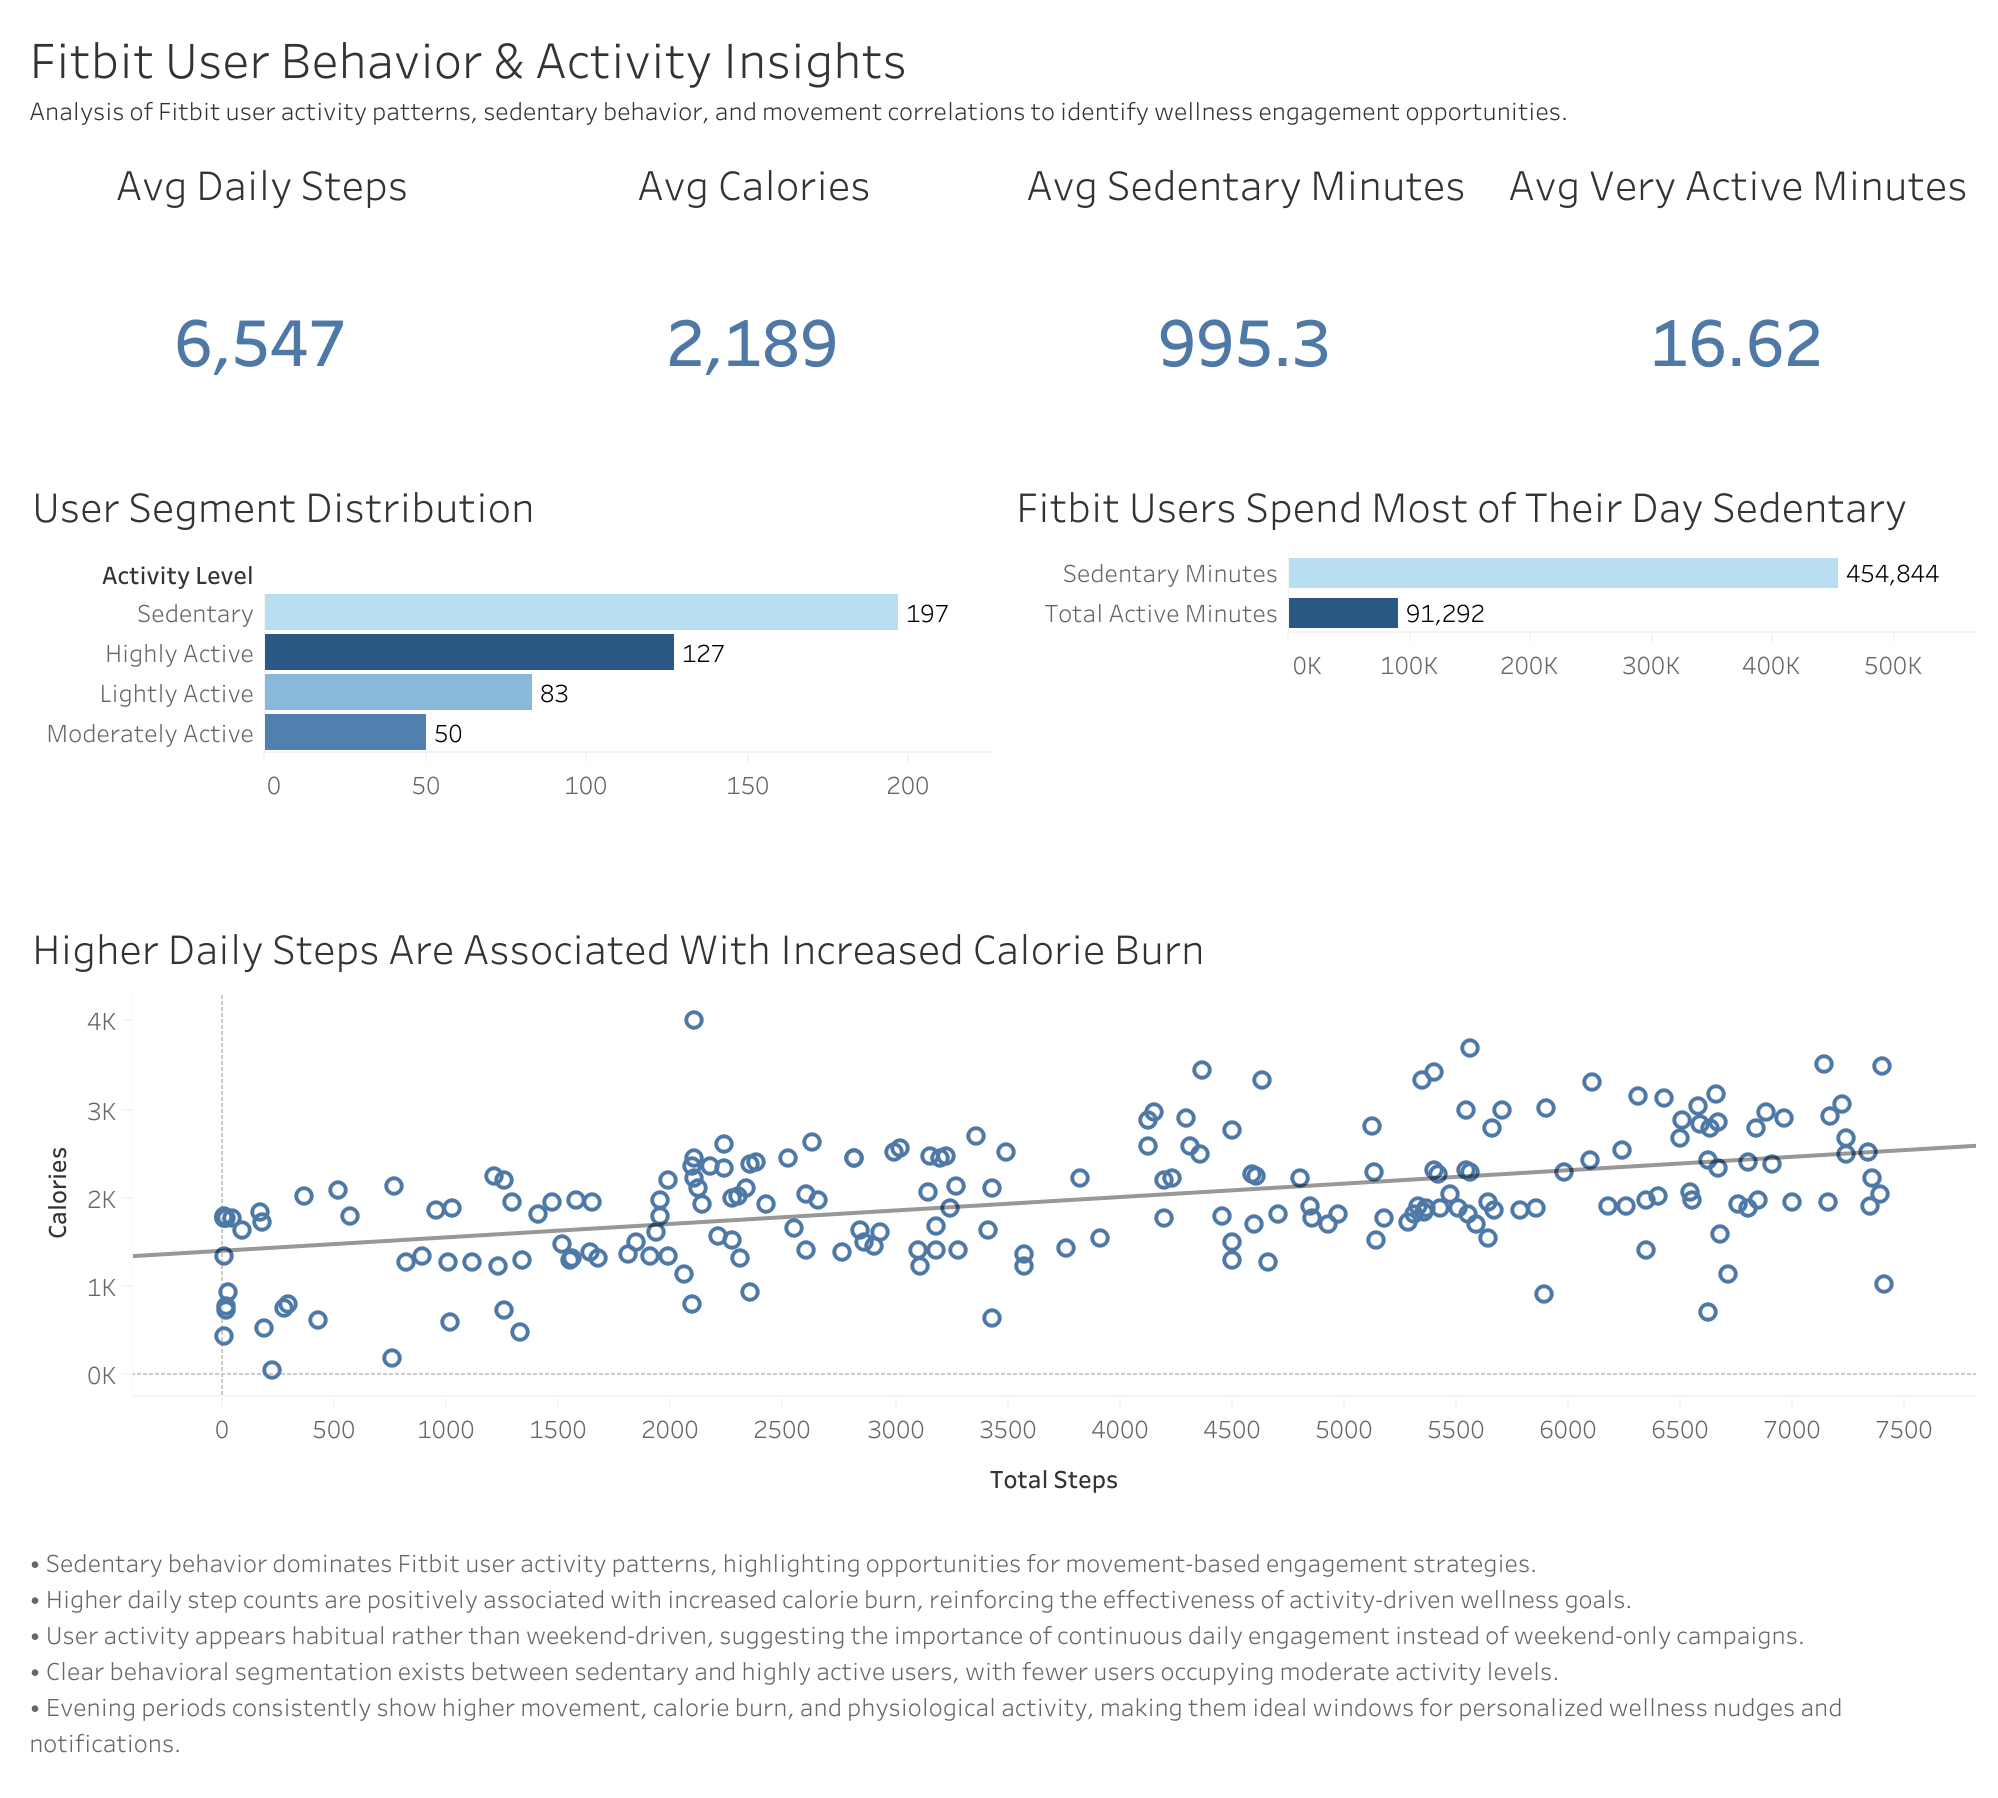

What the dashboard file says about the page in this screenshot:
{"tool":"tableau","page":{"name":"Dashboard 1 - User Activity Insights","canvas":[1000,900],"ordinal":0},"visuals":[{"type":"title","box":[8,8,984,60]},{"type":"worksheet","title":"KPI - Avg Daily Steps","mark":"Automatic","box":[8,68,246,161.5]},{"type":"worksheet","title":"KPI - Avg Calories","mark":"Automatic","box":[254,68,246,161.5]},{"type":"worksheet","title":"KPI - Avg Sedentary Minutes","mark":"Automatic","box":[500,68,246,161.5]},{"type":"worksheet","title":"KPI - Avg Very Active Minutes","mark":"Automatic","box":[746,68,246,161.5]},{"type":"worksheet","title":"User Segment Distribution","mark":"Automatic","rows":["activity_level"],"cols":["total_records"],"box":[8,229.5,492,220.5]},{"type":"worksheet","title":"Sedentary vs Active Minutes","mark":"Automatic","box":[500,229.5,492,220.5]},{"type":"worksheet","title":"Steps vs Calories Correlation","mark":"Automatic","rows":["calories"],"cols":["total_steps"],"box":[8,450,984,357]},{"type":"text","box":[8,807,984,85]},{"type":"dashboard-object","box":[925,835,78,34]}]}

Visuals, with their boxes in screenshot pixels (x1, y1, x2, y2), scaled from the page's 1000x900 canvas onto the 1998x1798 screenshot:
title: <box>16,16,1982,136</box>
"KPI - Avg Daily Steps" worksheet: <box>16,136,507,458</box>
"KPI - Avg Calories" worksheet: <box>507,136,999,458</box>
"KPI - Avg Sedentary Minutes" worksheet: <box>999,136,1491,458</box>
"KPI - Avg Very Active Minutes" worksheet: <box>1491,136,1982,458</box>
"User Segment Distribution" worksheet: <box>16,458,999,899</box>
"Sedentary vs Active Minutes" worksheet: <box>999,458,1982,899</box>
"Steps vs Calories Correlation" worksheet: <box>16,899,1982,1612</box>
text: <box>16,1612,1982,1782</box>
dashboard-object: <box>1848,1668,1997,1736</box>
